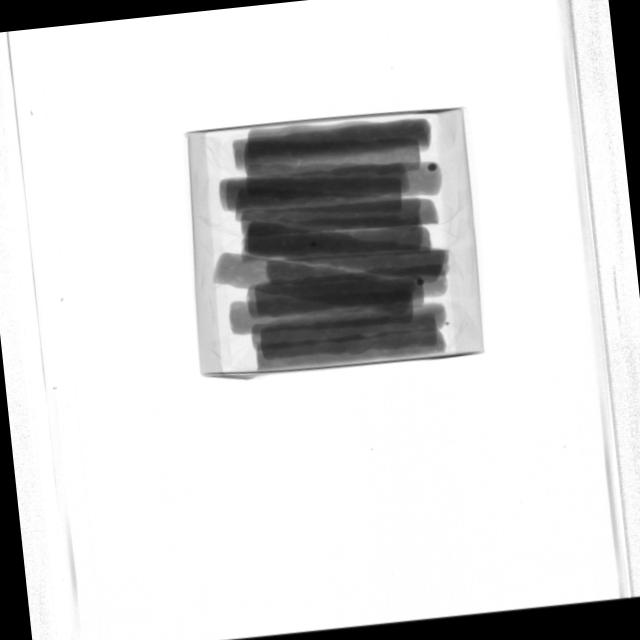ym: (428, 162, 438, 172), (417, 278, 425, 286), (310, 242, 317, 248), (445, 321, 449, 326)
